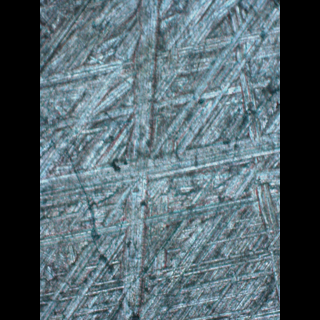d: (39, 122, 278, 230), (108, 2, 165, 320)
